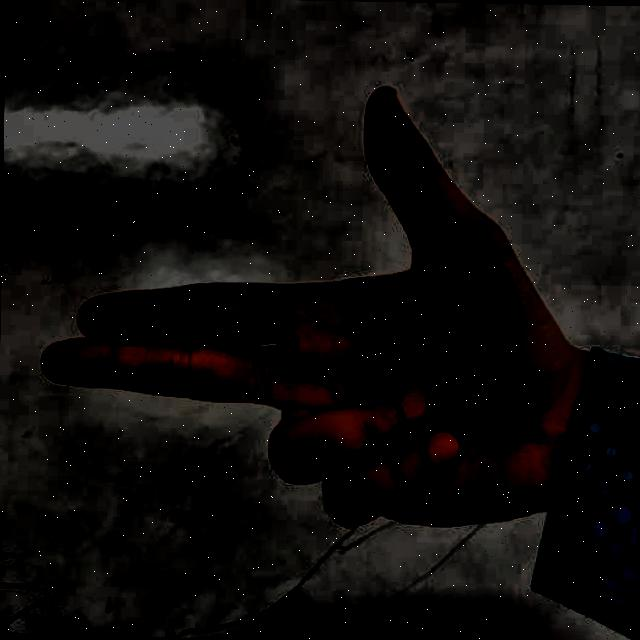Jha: (29, 55, 594, 615)
